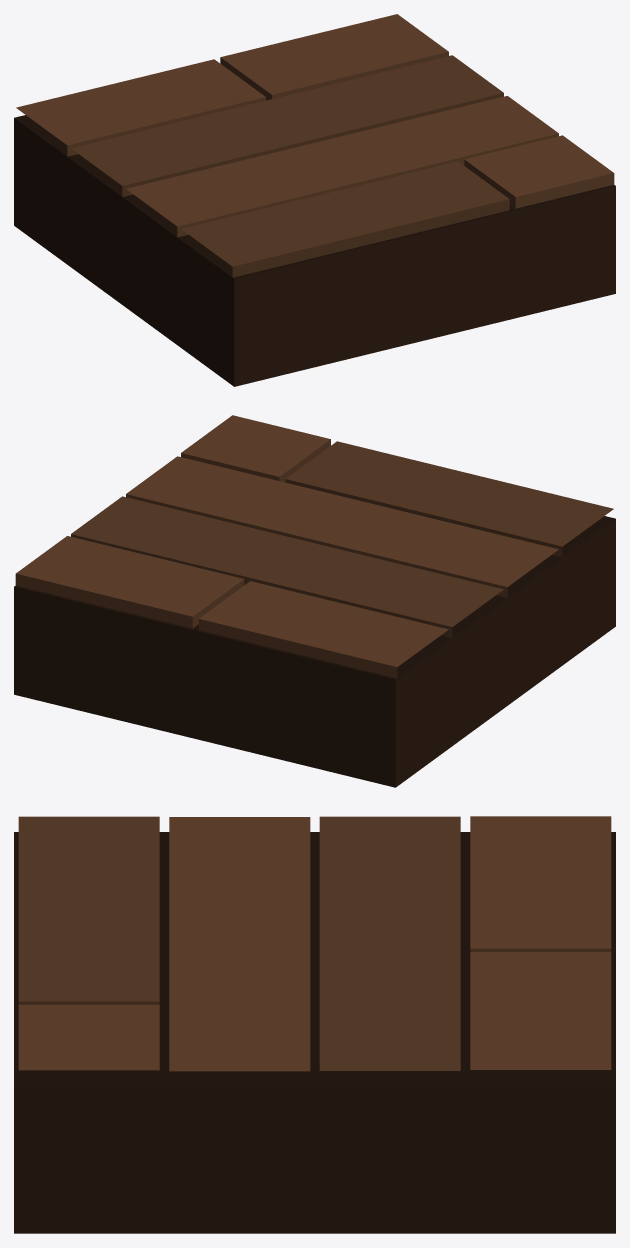
The model's file is tile_wood_floor_3.glb.
3 views of the same model, one above another, from view 1: azimuth 30°, elevation 25°; view 2: azimuth 150°, elevation 25°; view 3: azimuth 270°, elevation 25° (orthographic). The views are drawn at different scales.
Visible parts, largest first — view 1: tile_wood_floor_3; view 2: tile_wood_floor_3; view 3: tile_wood_floor_3.
Boxes of the visible parts, left/top/right/bottom form: tile_wood_floor_3: left=14, top=14, right=615, bottom=386; tile_wood_floor_3: left=14, top=415, right=615, bottom=787; tile_wood_floor_3: left=14, top=816, right=615, bottom=1233.
Bounding box in the file's own units: 1 × 0.3 × 1.
